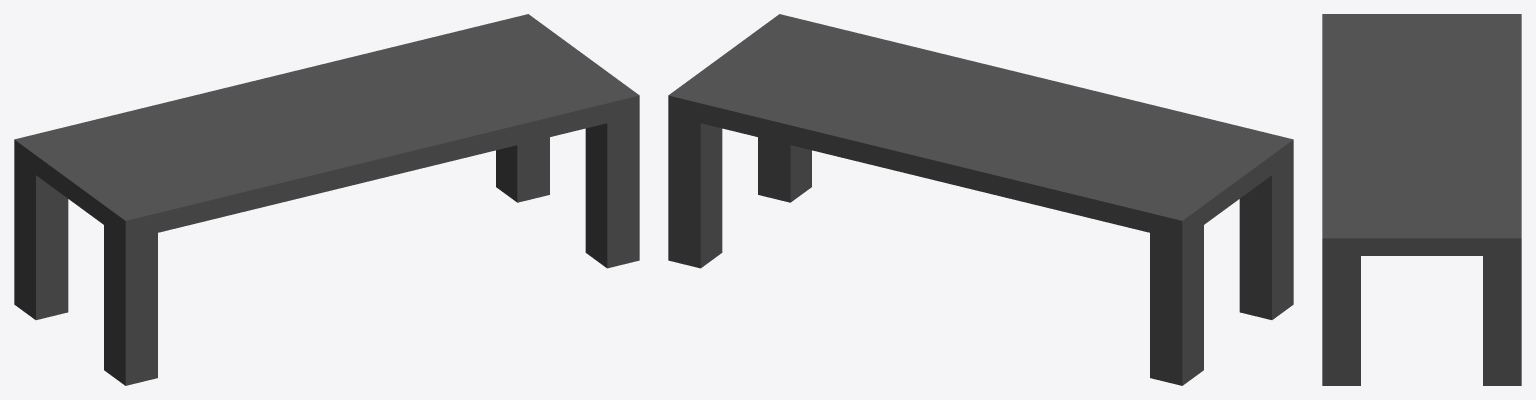
File: banc.fbx
3 renders of one model, left to right at view 1: azimuth 30°, elevation 25°; view 2: azimuth 150°, elevation 25°; view 3: azimuth 270°, elevation 25°, orthographic. The views are drawn at different scales.
Visible parts, largest first — view 1: Cube.019; view 2: Cube.019; view 3: Cube.019.
Boxes of the visible parts, left/top/right/bottom form: Cube.019: left=14, top=14, right=639, bottom=385; Cube.019: left=668, top=14, right=1293, bottom=385; Cube.019: left=1322, top=14, right=1521, bottom=385.
Bounding box in the file's own units: 533 × 164 × 200.
